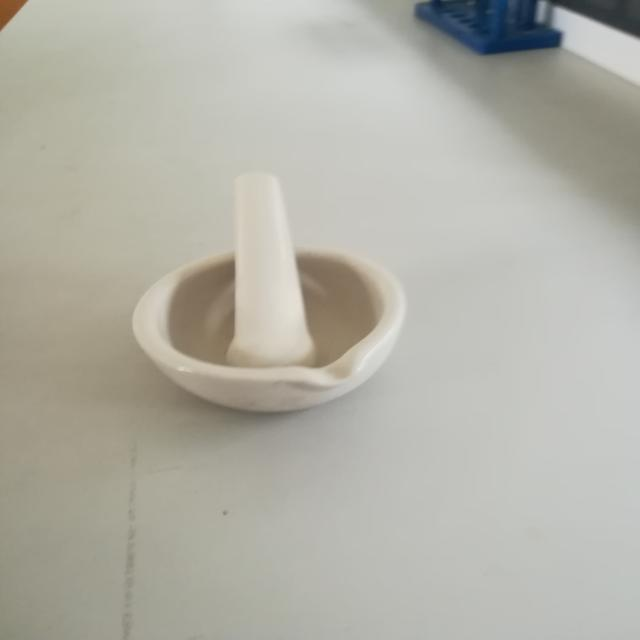Porcelain_Mortar Pestle: (136, 162, 462, 453)
